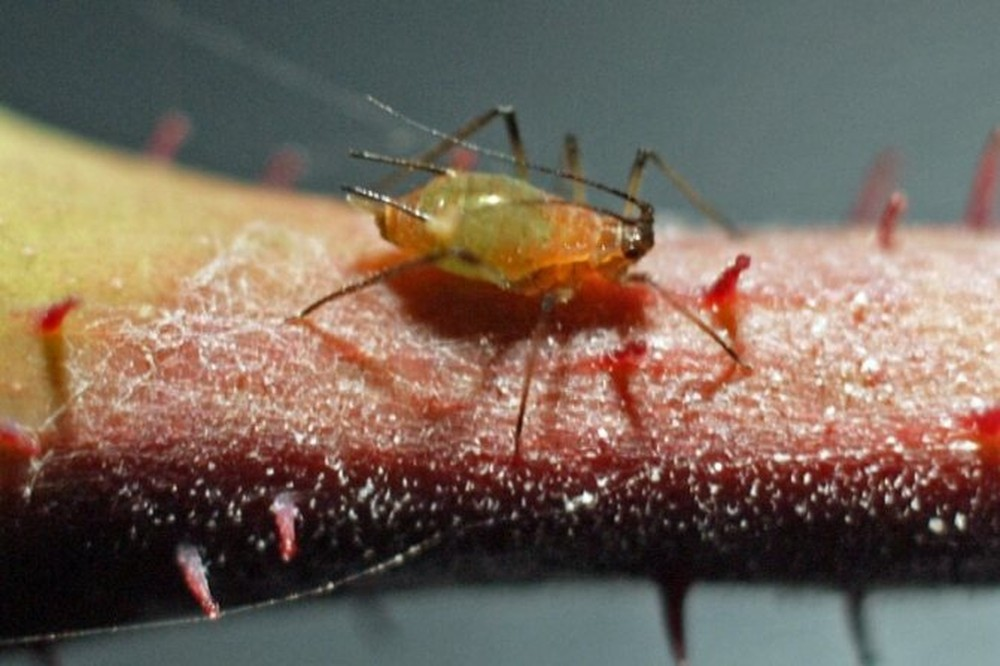Pulgon: (282, 88, 746, 403)
